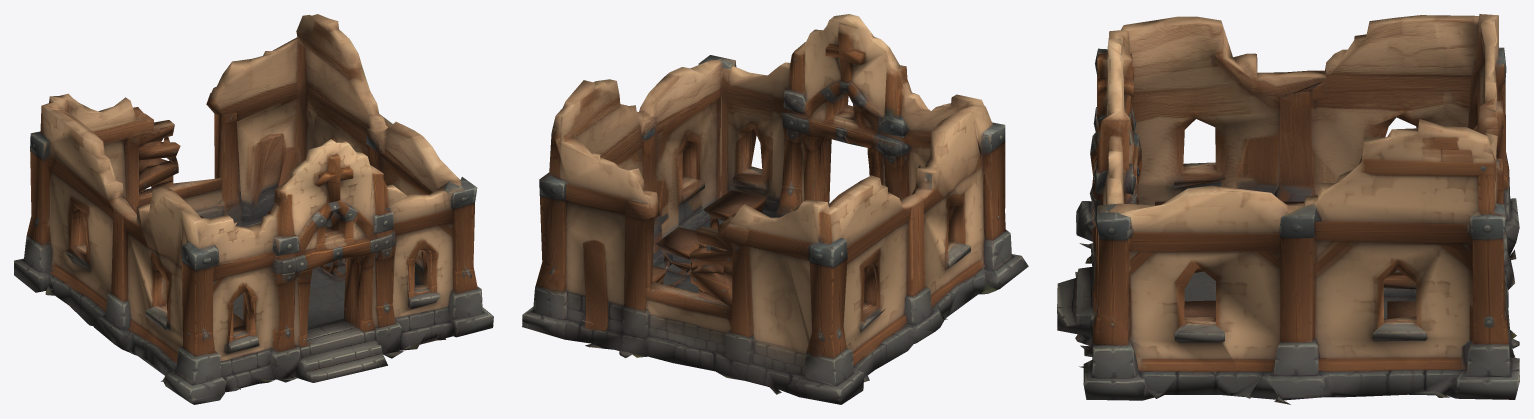
File: ChurchBase.fbx
3 renders of one model, left to right at view 1: azimuth 30°, elevation 25°; view 2: azimuth 150°, elevation 25°; view 3: azimuth 270°, elevation 25°, orthographic. The views are drawn at different scales.
Parts seen in each view (by area): view 1: Mesh_0; view 2: Mesh_0; view 3: Mesh_0.
Part boxes in pixels (x1=…): Mesh_0: x1=14, y1=14, x2=493, y2=404; Mesh_0: x1=522, y1=14, x2=1028, y2=404; Mesh_0: x1=1057, y1=14, x2=1519, y2=404.
Size of the model in its own units: 178 by 122 by 187.
1 material, 1 textured.
